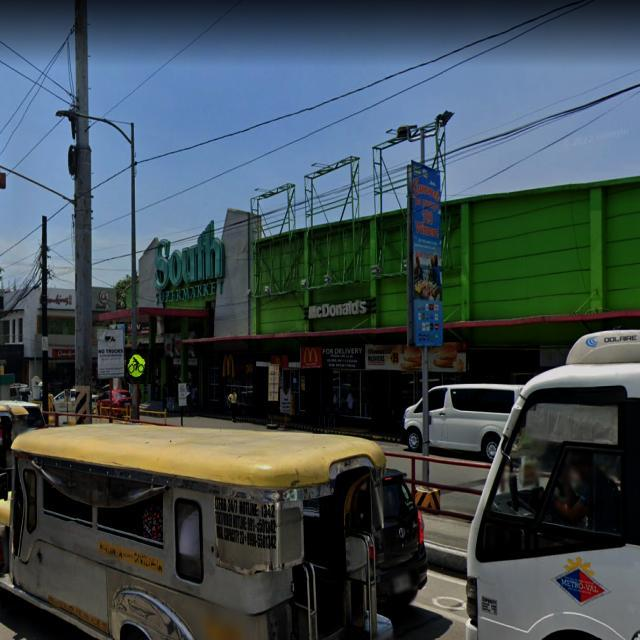bike lane: (126, 349, 154, 384)
